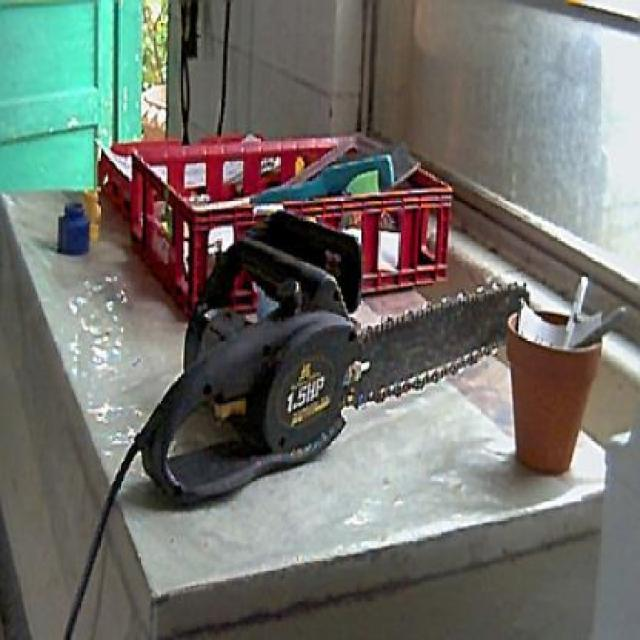Chainsaw: (136, 209, 530, 508)
